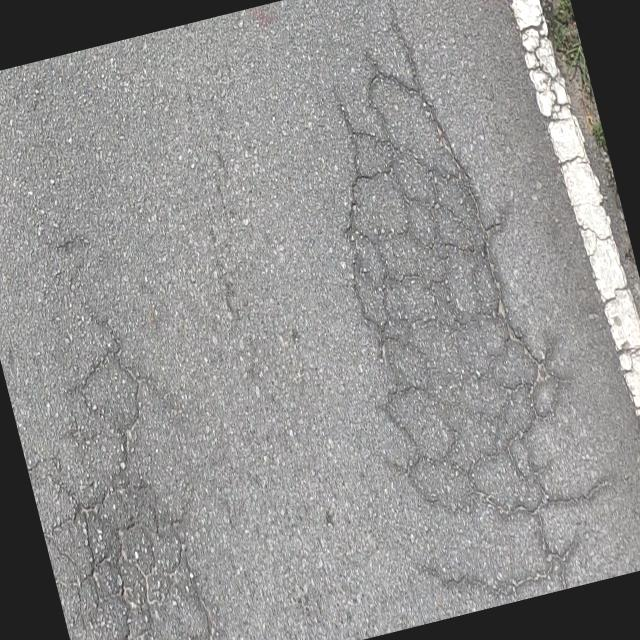Retak-Buaya: (337, 8, 622, 608), (29, 337, 220, 640)
